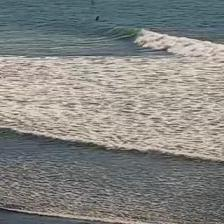surfer: (95, 16, 100, 20)
